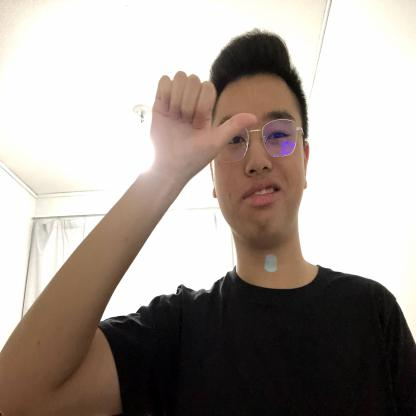left: (148, 70, 260, 188)
